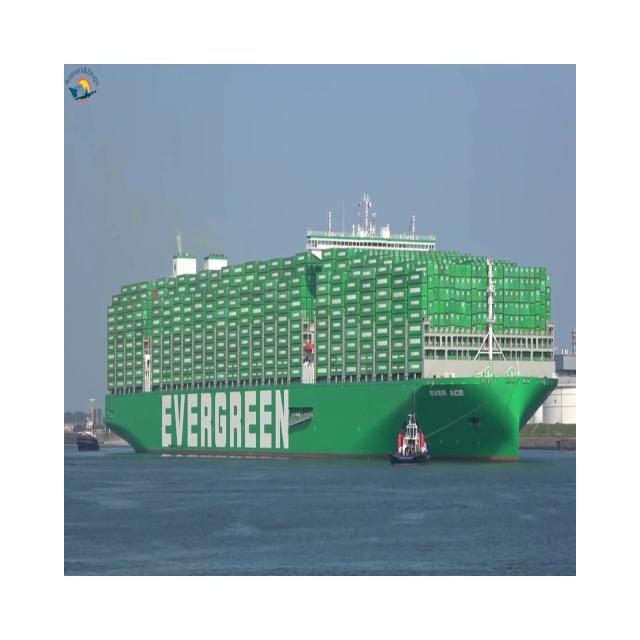OCR: (157, 386, 297, 465), (426, 382, 467, 408)
